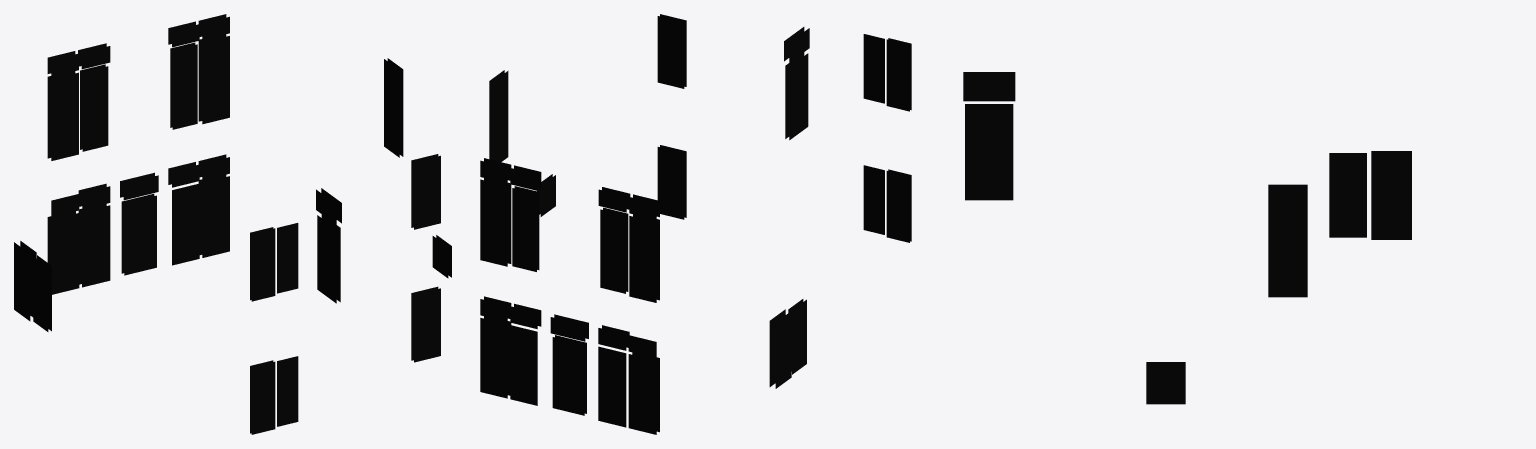
File: windows.FBX
3 renders of one model, left to right at view 1: azimuth 30°, elevation 25°; view 2: azimuth 150°, elevation 25°; view 3: azimuth 270°, elevation 25°, orthographic. The views are drawn at different scales.
Parts seen in each view (by area): view 1: w1, w2; view 2: w1, w2; view 3: w2, w1.
Part boxes in pixels (left/top/right/bottom): w1: left=14, top=154, right=451, bottom=434; w2: left=47, top=14, right=440, bottom=303; w1: left=480, top=145, right=911, bottom=434; w2: left=480, top=14, right=911, bottom=302; w2: left=963, top=72, right=1307, bottom=297; w1: left=1146, top=151, right=1411, bottom=404.
Size of the model in its own units: 8608 by 5815 by 10386.
